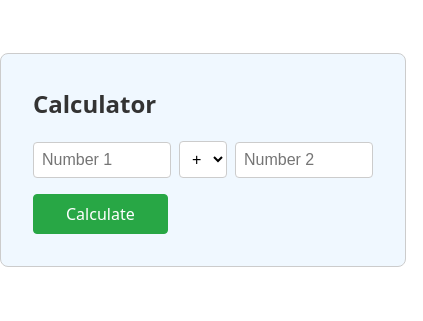
Test: Calculator › shows error for division by zero
Type "10" into the number field named "First number" at [102, 160], box [33,142,171,178]
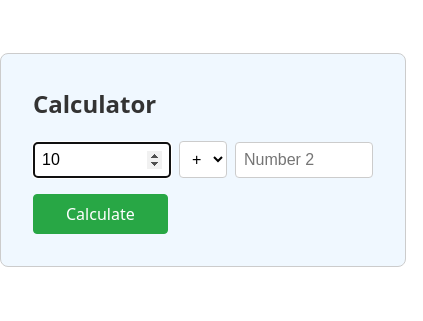
Type "0" into the number field named "Second number" at [304, 160], box [235,142,373,178]
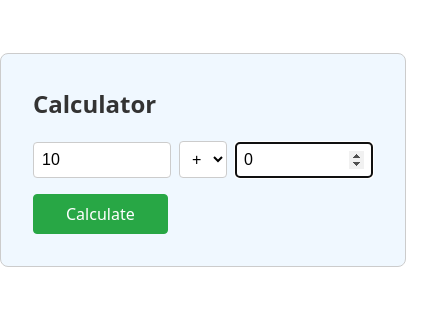
Select "÷" in the dropdown named "Operation" at [203, 160], box [179,142,227,178]
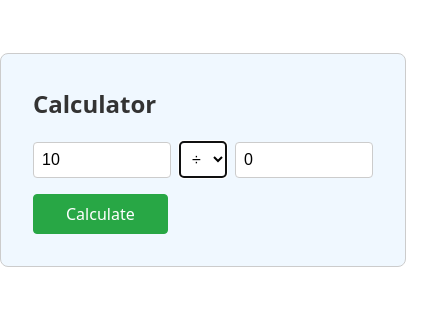
Click the button "Calculate" at [100, 214], box [33,194,168,234]
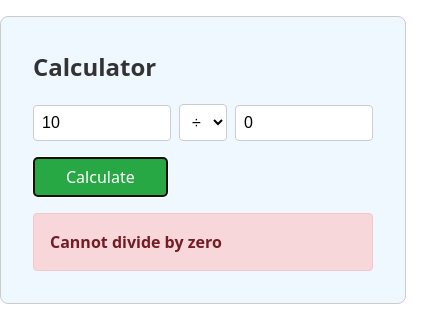
expect the text with test id "error" reads "Cannot divide by zero": met, box [50,232,222,254]
